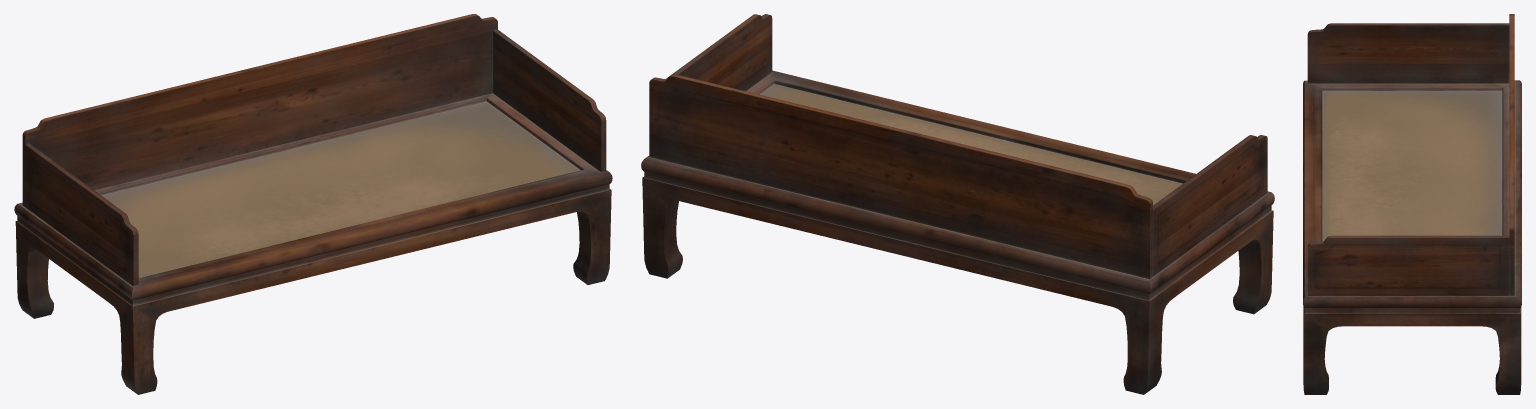
Rendered from chinese_sofa.glb.
3 views of the same model, side by side, from view 1: azimuth 30°, elevation 25°; view 2: azimuth 150°, elevation 25°; view 3: azimuth 270°, elevation 25° (orthographic). The views are drawn at different scales.
Parts seen in each view (by area): view 1: chinese_sofa; view 2: chinese_sofa; view 3: chinese_sofa.
Part boxes in pixels (x1=…): chinese_sofa: x1=14, y1=14, x2=612, y2=394; chinese_sofa: x1=641, y1=14, x2=1274, y2=394; chinese_sofa: x1=1303, y1=14, x2=1521, y2=394.
Bounding box in the file's own units: 2.29 × 0.86 × 0.9689.
1 material, 1 textured.
